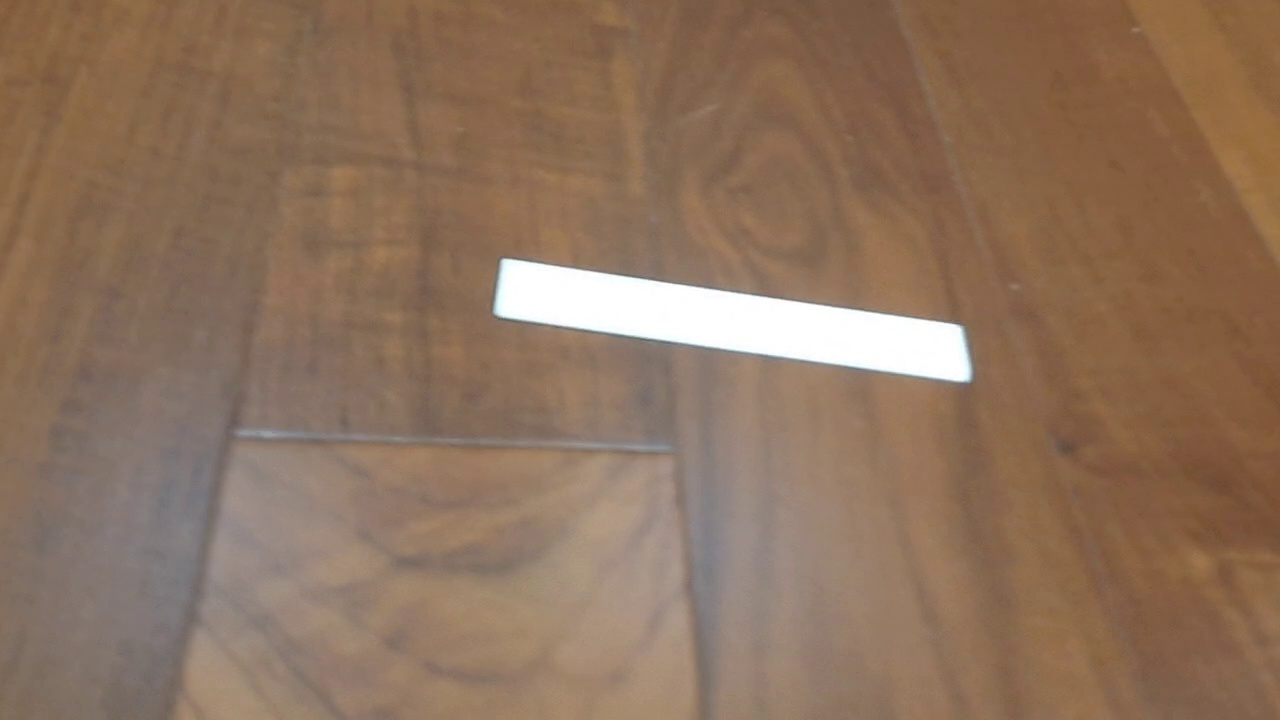ruler: (491, 256, 975, 386)
